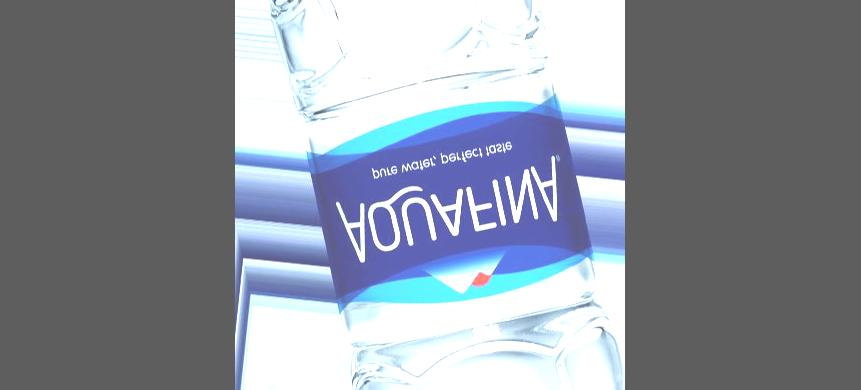bottle: (240, 0, 625, 390)
